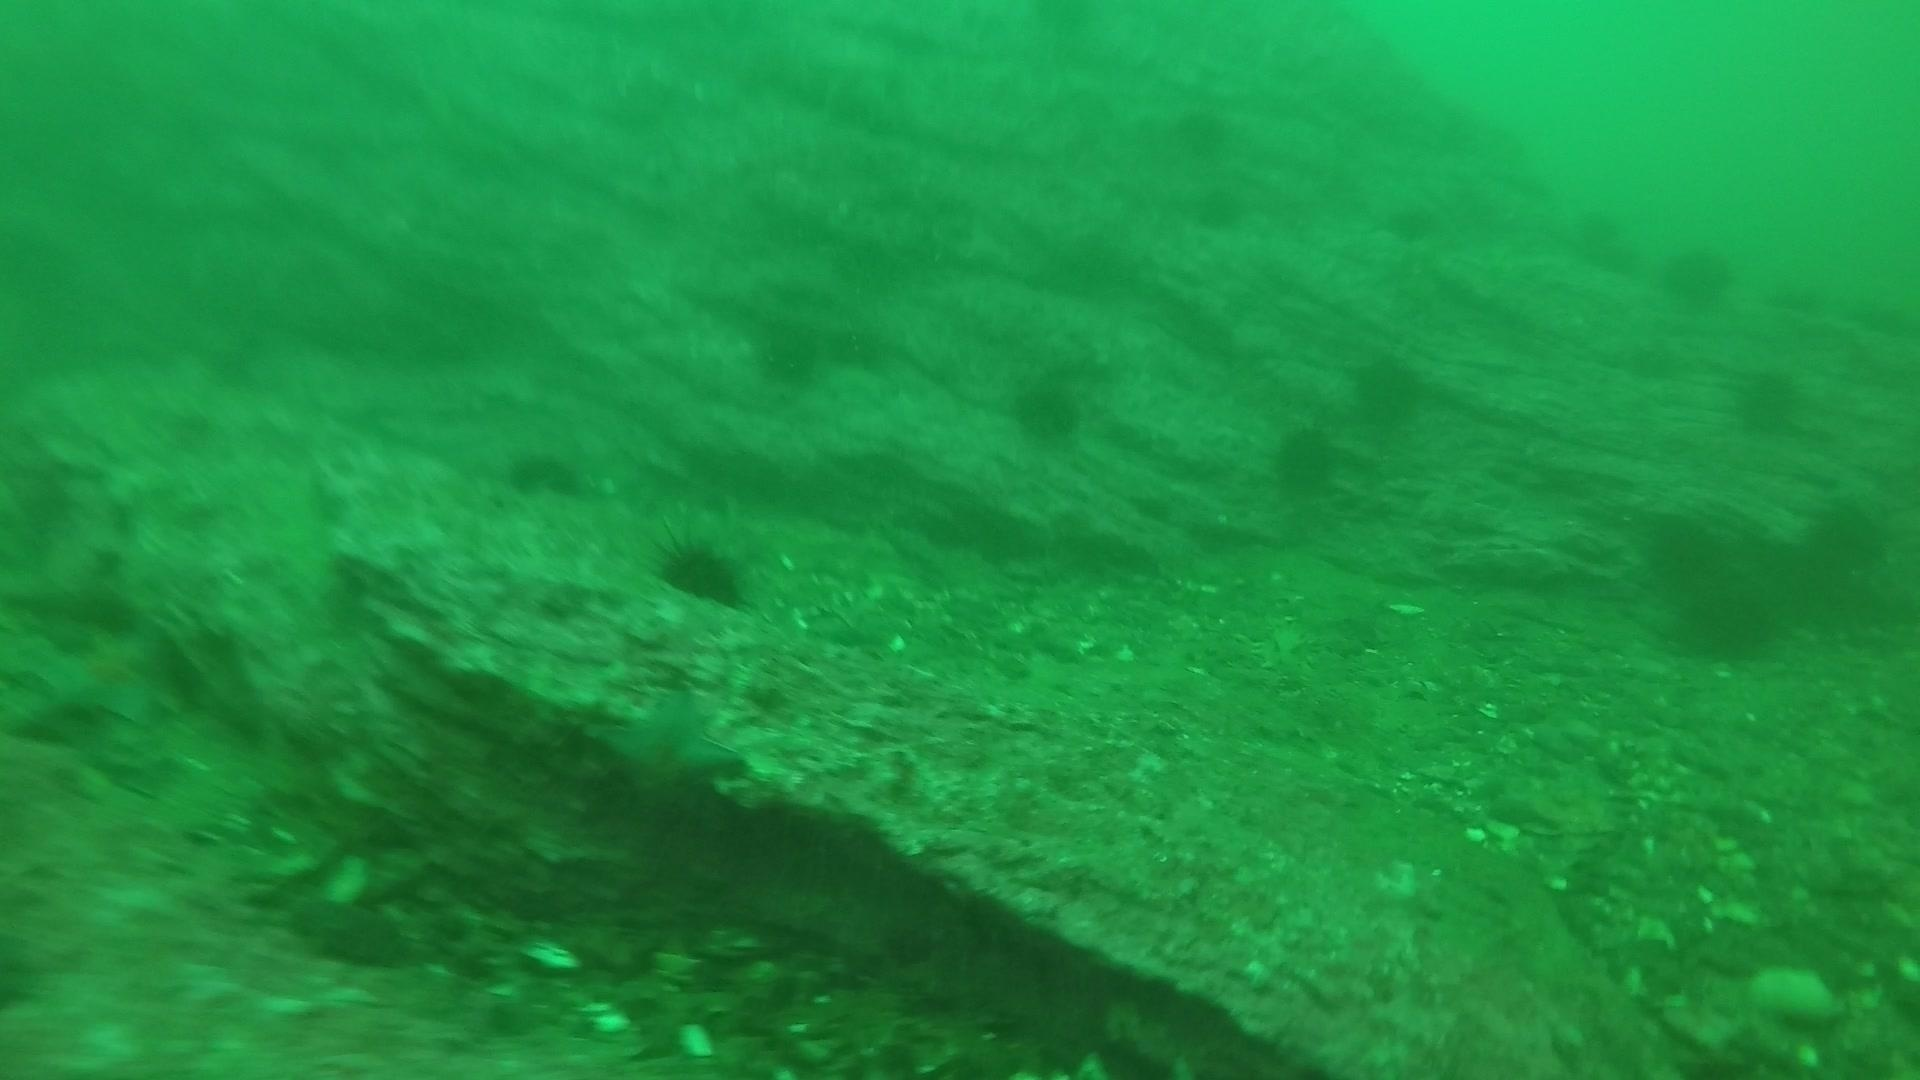echinus: (1662, 570, 1785, 669), (651, 529, 754, 615), (1344, 347, 1429, 433), (1265, 417, 1348, 502), (1724, 360, 1811, 442), (1004, 367, 1091, 448), (746, 313, 829, 393), (1656, 236, 1739, 313), (501, 440, 588, 506), (1371, 190, 1441, 247), (1565, 200, 1635, 257), (1168, 104, 1240, 160), (1176, 179, 1246, 235)
starfish: (592, 682, 750, 815), (25, 617, 185, 735)
